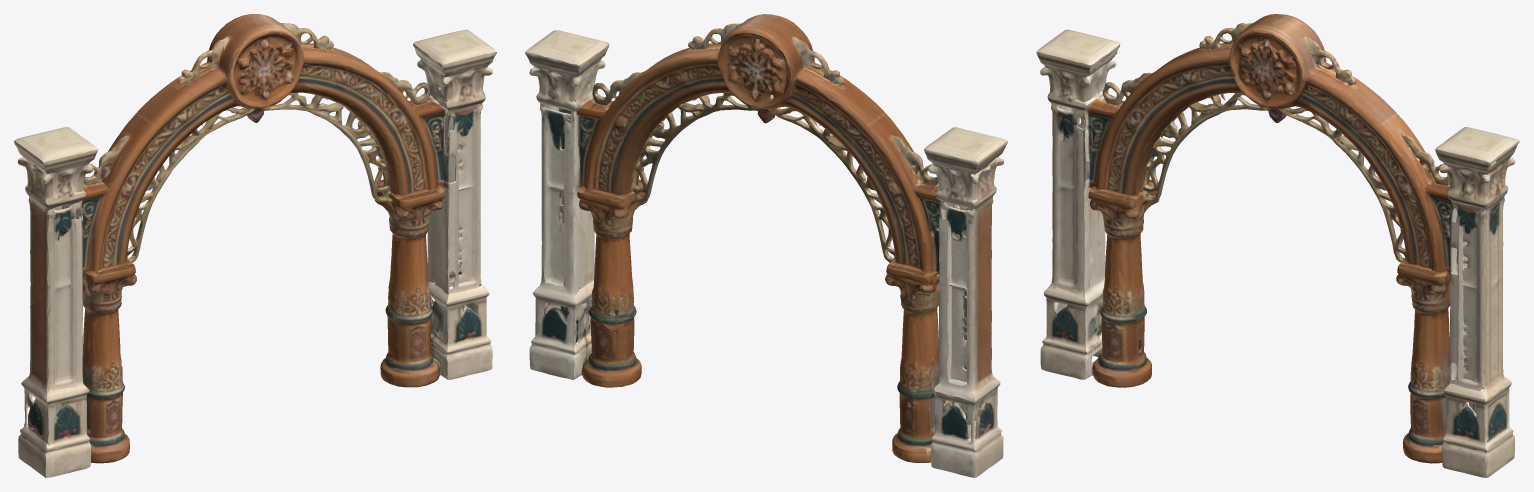
Rendered from unified--park-entry.glb.
3 renders of one model, left to right at view 1: azimuth 30°, elevation 25°; view 2: azimuth 150°, elevation 25°; view 3: azimuth 330°, elevation 25°, orthographic.
Parts seen in each view (by area): view 1: park-entry-0; view 2: park-entry-0; view 3: park-entry-0.
Boxes of the visible parts, box(x1,y1,x2,y2) form: park-entry-0: box(14, 14, 496, 477); park-entry-0: box(525, 14, 1007, 477); park-entry-0: box(1036, 14, 1519, 477).
Bounding box in the file's own units: 3.5 × 2.89 × 0.4119.
1 material, 1 textured.
